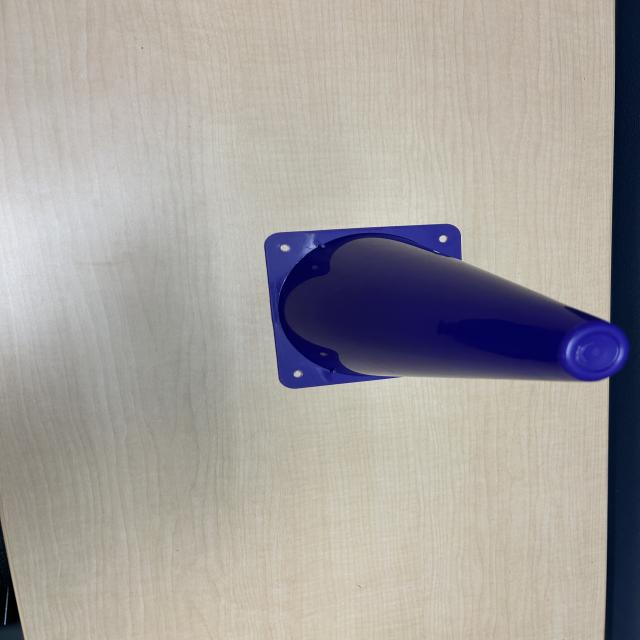purple cone: (256, 222, 629, 395)
